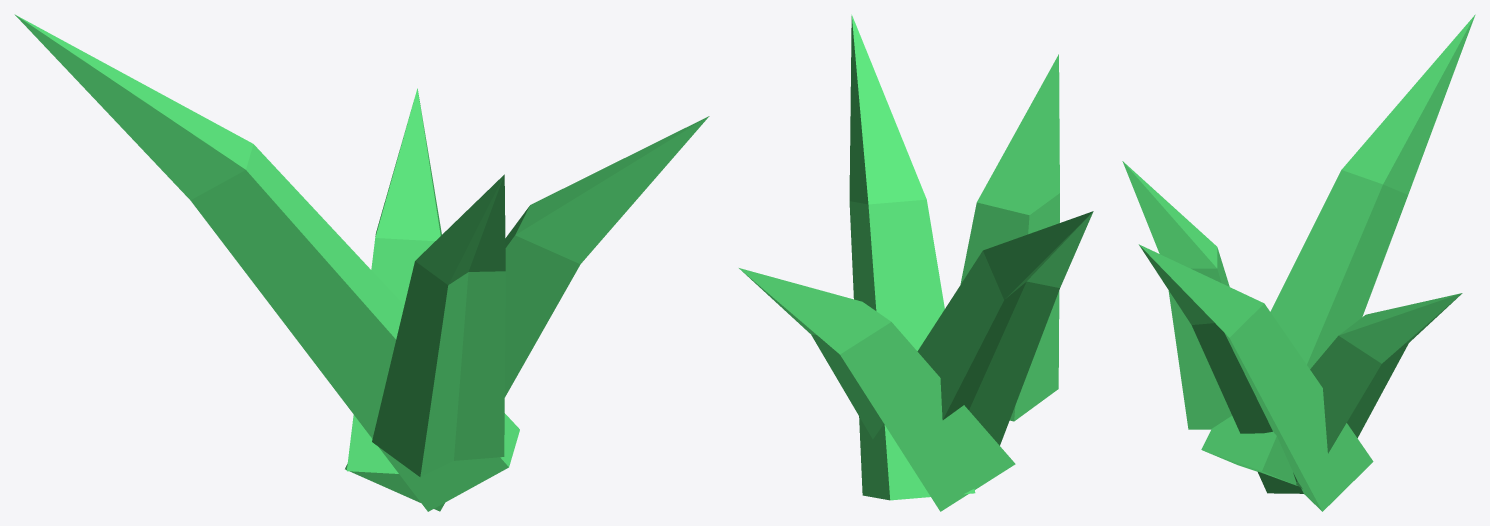
File: Grass.fbx
The picture shows the model from 3 angles, left to right: view 1: azimuth 30°, elevation 25°; view 2: azimuth 150°, elevation 25°; view 3: azimuth 270°, elevation 25°; orthographic projection. The views are drawn at different scales.
Parts seen in each view (by area): view 1: Cube.002, Cube, Cube.001, Cube.003; view 2: Cube.001, Cube.003, Cube.002, Cube; view 3: Cube.002, Cube.001, Cube.003, Cube.
Part boxes in pixels (box(x1,y1,x2,y2)): Cube.002: box(14, 14, 519, 511); Cube: box(372, 174, 505, 477); Cube.001: box(345, 116, 709, 511); Cube.003: box(346, 88, 441, 473); Cube.001: box(849, 14, 975, 500); Cube.003: box(739, 268, 1015, 511); Cube.002: box(917, 211, 1093, 445); Cube: box(960, 54, 1059, 421); Cube.002: box(1201, 14, 1475, 485); Cube.001: box(1138, 244, 1373, 511); Cube.003: box(1296, 293, 1462, 488); Cube: box(1122, 161, 1231, 429).
Bounding box in the file's own units: 191 × 179 × 156.
